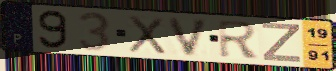3: (77, 11, 114, 53)
9: (37, 9, 69, 50)
R: (216, 18, 263, 60)
V: (166, 16, 213, 58)
X: (127, 13, 168, 56)
Z: (260, 21, 304, 64)
